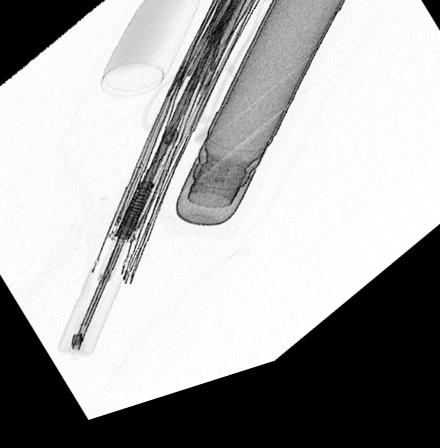Scissors: (137, 0, 248, 145)
